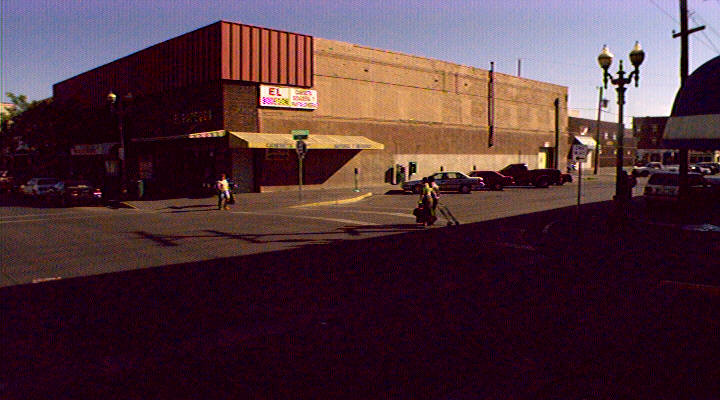Ramp: (123, 194, 315, 215)
